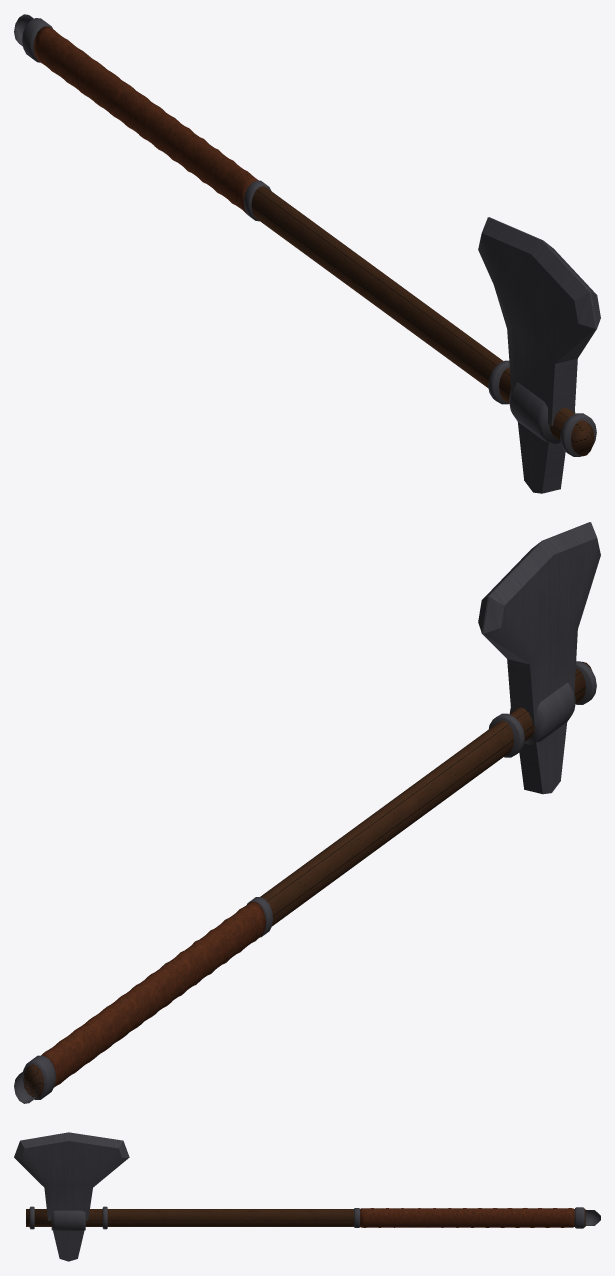
The model's file is weapon_cinder_axe.glb.
3 views of the same model, one above another, from view 1: azimuth 30°, elevation 25°; view 2: azimuth 150°, elevation 25°; view 3: azimuth 270°, elevation 25° (orthographic). The views are drawn at different scales.
Visible parts, largest first — view 1: cinder_axe; view 2: cinder_axe; view 3: cinder_axe.
Boxes of the visible parts, bbox=[...] form: cinder_axe: bbox=[14, 14, 600, 493]; cinder_axe: bbox=[14, 522, 600, 1103]; cinder_axe: bbox=[14, 1132, 600, 1261].
Size of the model in its own units: 0.0357 by 0.23 by 0.965.
Materials: 3 (3 with a texture image).
